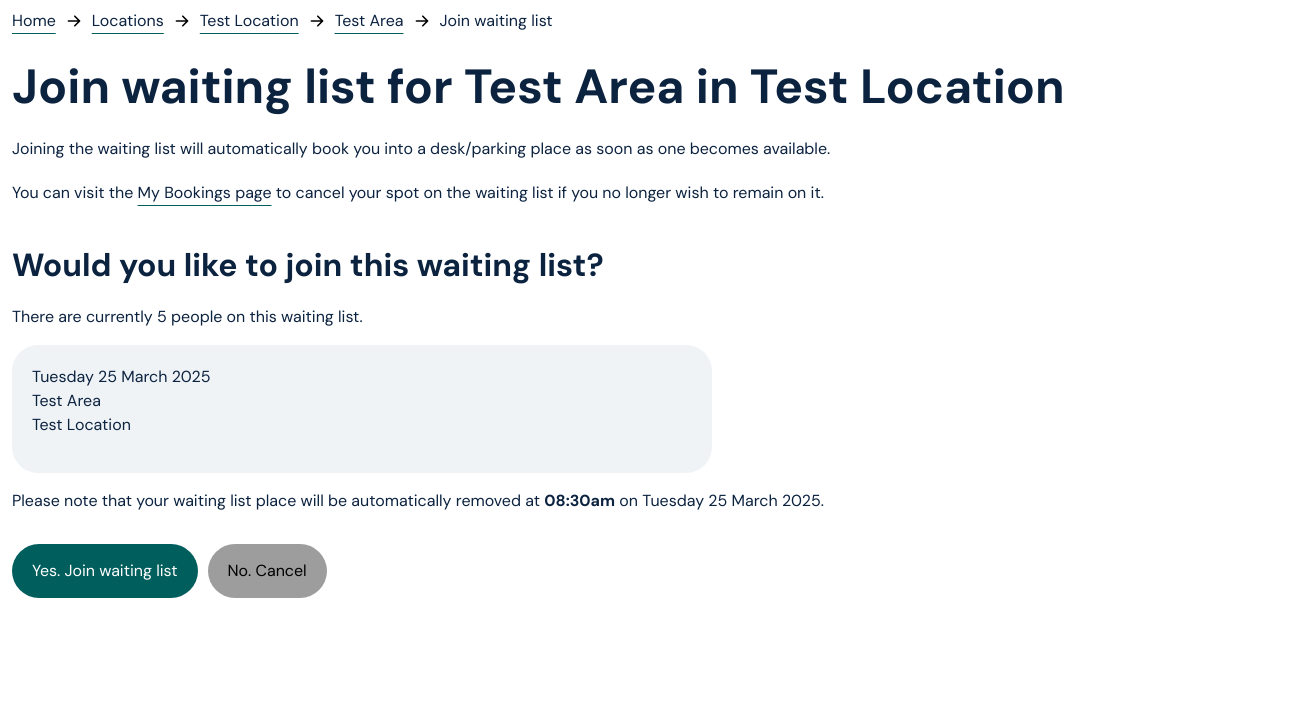
Scenario: WaitingListJoin › shows error banner when adding to waiting list fails
The width and height of the screenshot is (1292, 720).
Expected: the heading "Join waiting list for Test Area in Test Location" is shown, [12,55,1065,118]
Simulate confirm button click
Click the button "Yes. Join waiting list" at (105, 571), box [12,544,198,598]
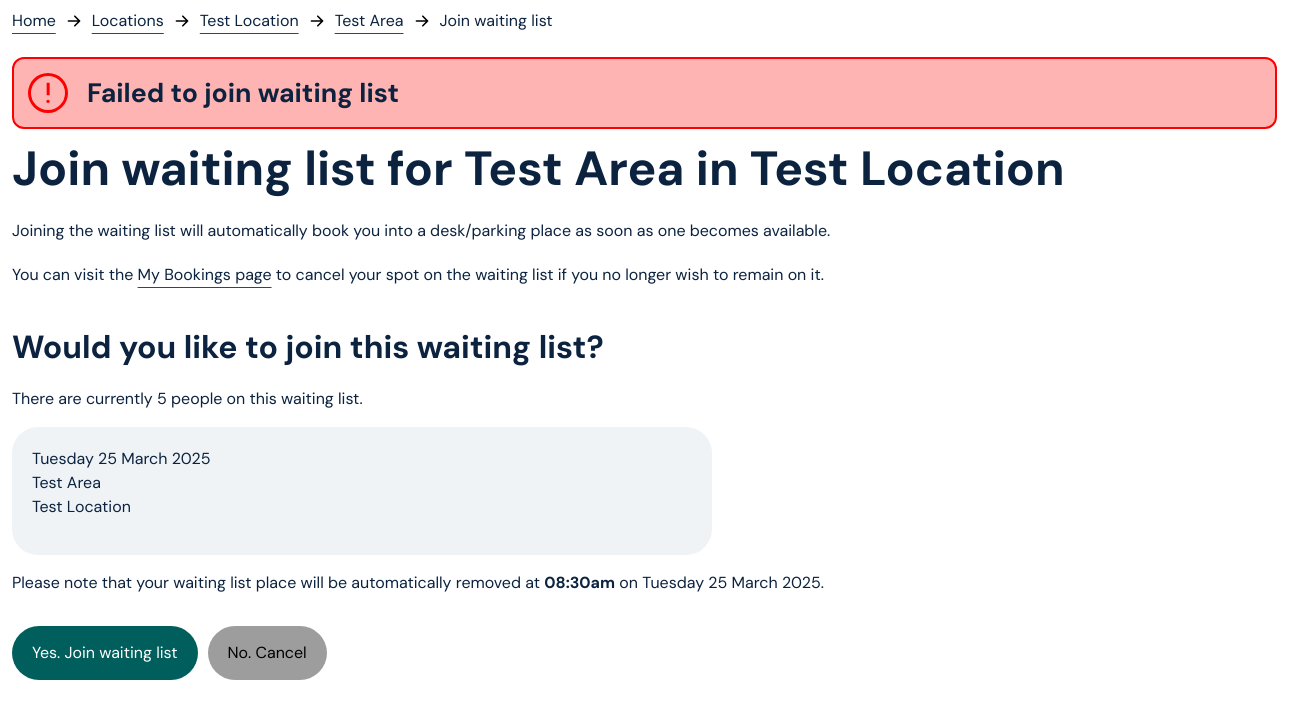
Now the text "Failed to join waiting list" is shown, box [87,76,399,110]
